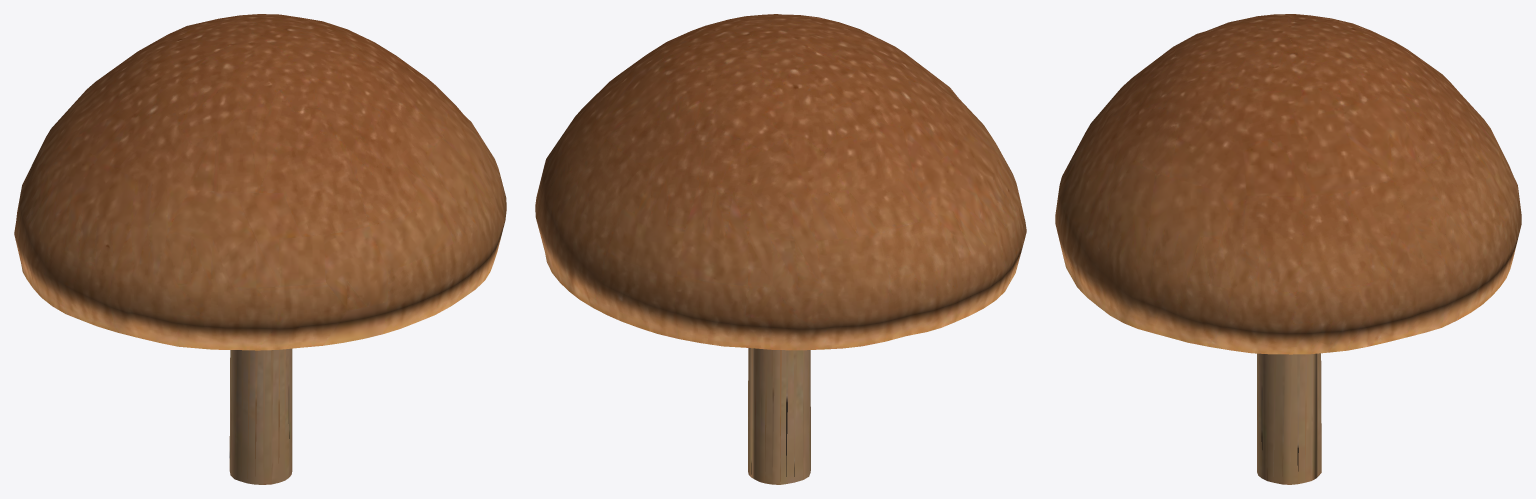
Rendered from mushroom_tan.glb.
3 renders of one model, left to right at view 1: azimuth 30°, elevation 25°; view 2: azimuth 150°, elevation 25°; view 3: azimuth 270°, elevation 25°, orthographic.
Parts seen in each view (by area): view 1: geometry_0; view 2: geometry_0; view 3: geometry_0.
Boxes of the visible parts, bbox=[...] form: geometry_0: bbox=[14, 14, 506, 484]; geometry_0: bbox=[535, 14, 1026, 484]; geometry_0: bbox=[1055, 14, 1521, 484].
Size of the model in its own units: 0.957 by 0.9038 by 0.8794.
1 material, 1 textured.
